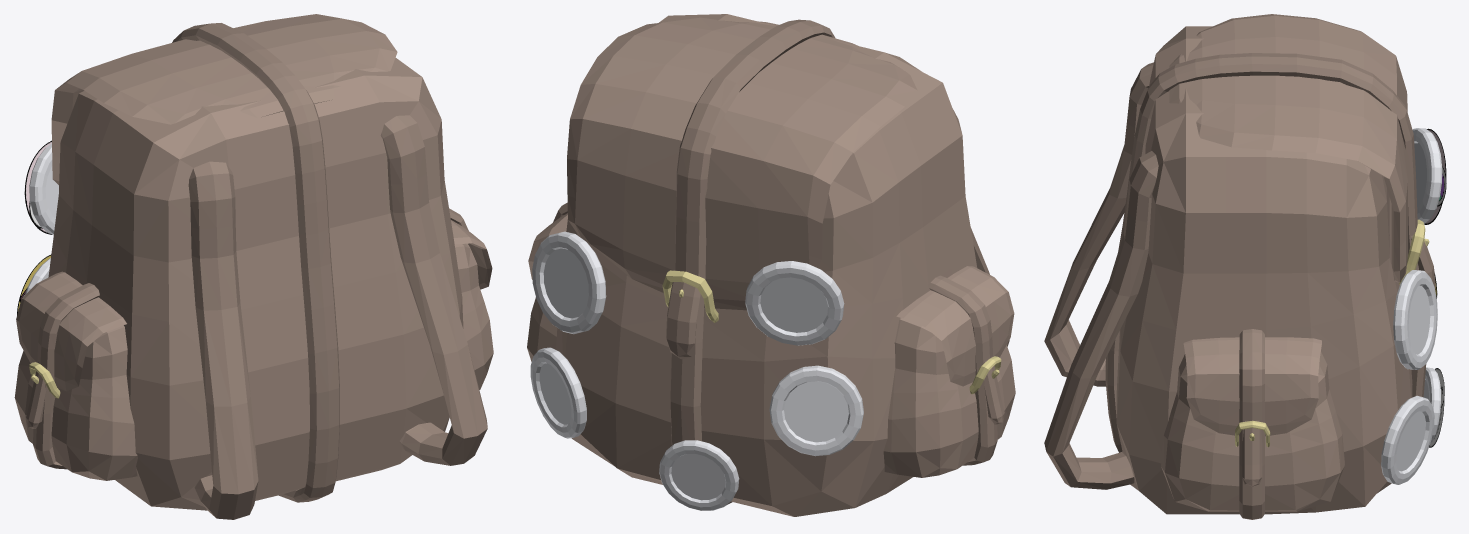
File: backpack.glb
The picture shows the model from 3 angles, left to right: view 1: azimuth 30°, elevation 25°; view 2: azimuth 150°, elevation 25°; view 3: azimuth 270°, elevation 25°; orthographic projection. The views are drawn at different scales.
Parts seen in each view (by area): view 1: Backpack; view 2: Backpack; view 3: Backpack.
Part boxes in pixels (x1,y1,x2,y2): Backpack: (14, 14, 493, 519); Backpack: (527, 14, 1015, 516); Backpack: (1044, 14, 1446, 519).
Bounding box in the file's own units: 0.62 × 0.5522 × 0.4894.
5 materials, 1 textured.
